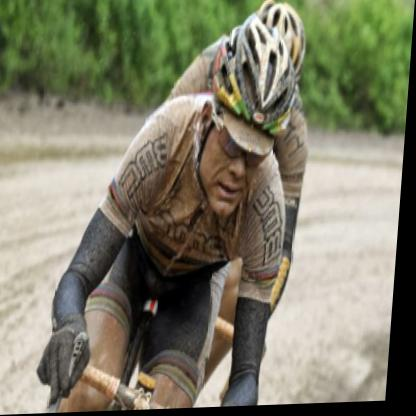With Helmet: (173, 31, 308, 220)
